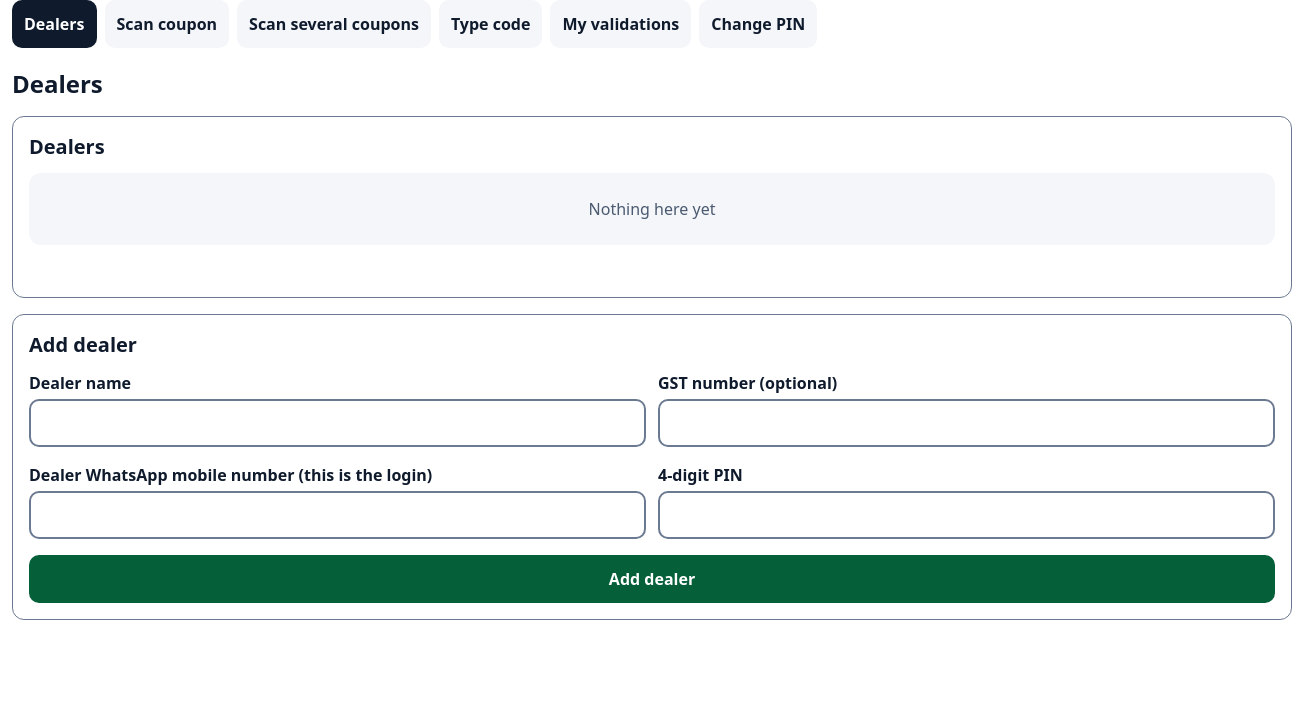
Test: distributor and sales rep: dealers › shows the reason when a dealer cannot be added
The image size is (1292, 720).
In the field labelled "Dealer name": (338, 423) [29,399,646,447], type "Om Paints"
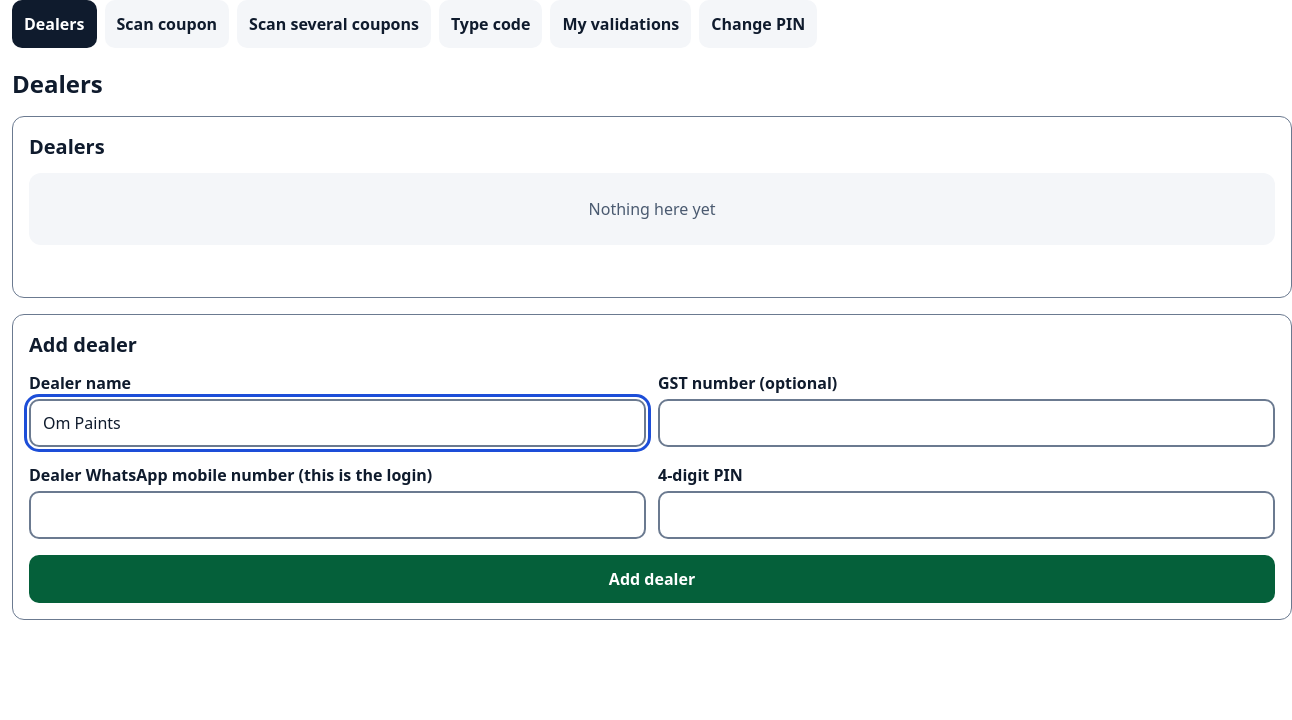
In the field labelled "Dealer WhatsApp mobile number (this is the login)": (338, 515) [29,491,646,539], type "9822200001"
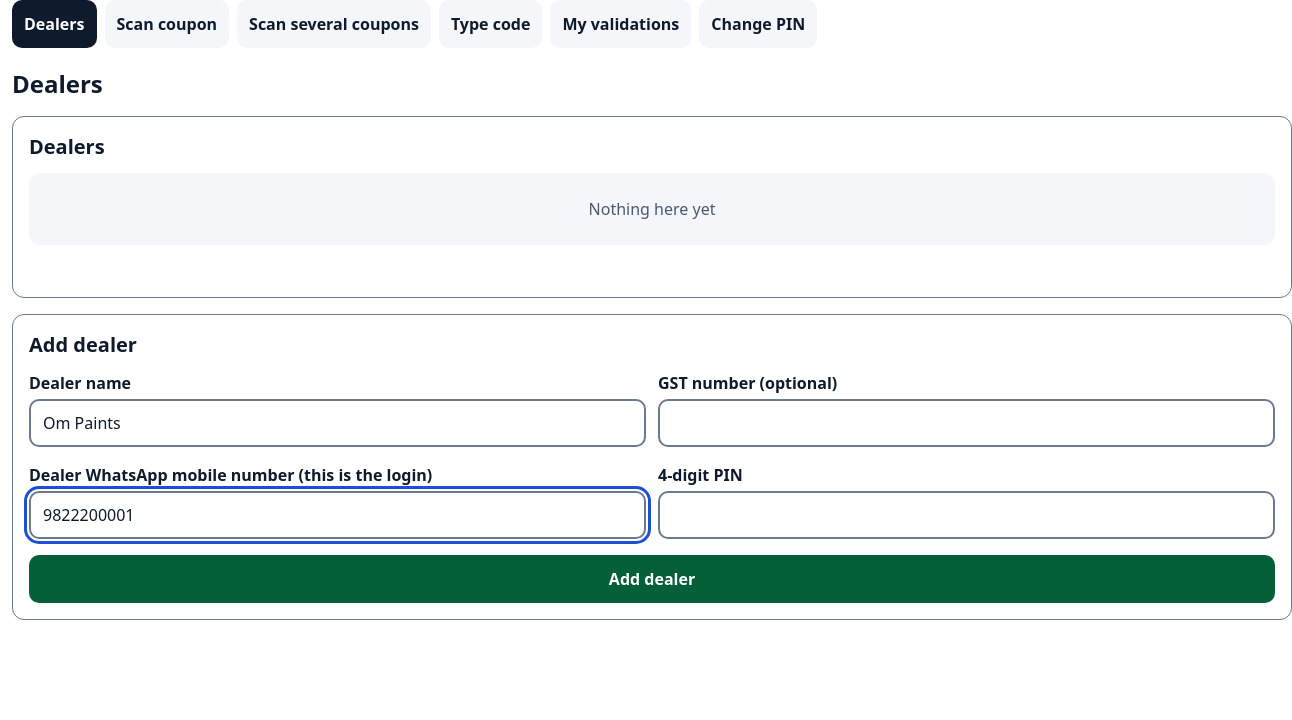
In the password field labelled "4-digit PIN": (966, 515) [658,491,1275,539], type "2468"
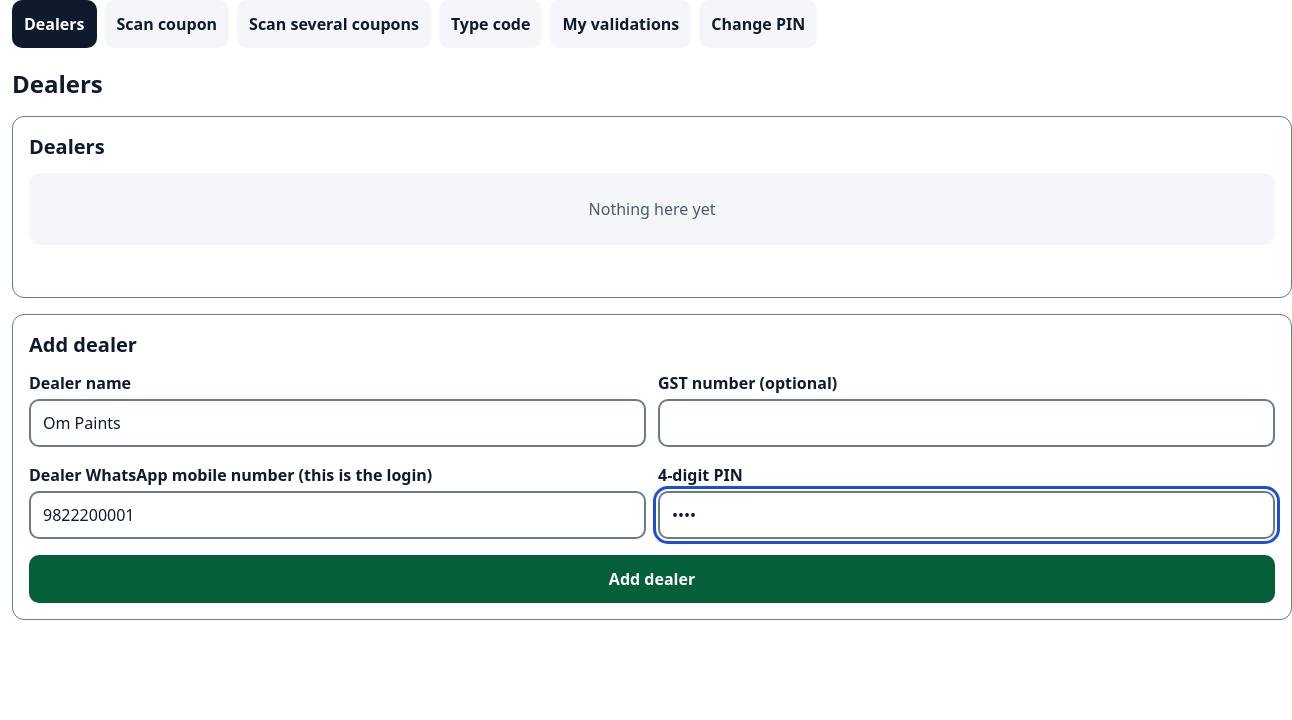
Click the button "Add dealer": (652, 579) [29,555,1275,603]
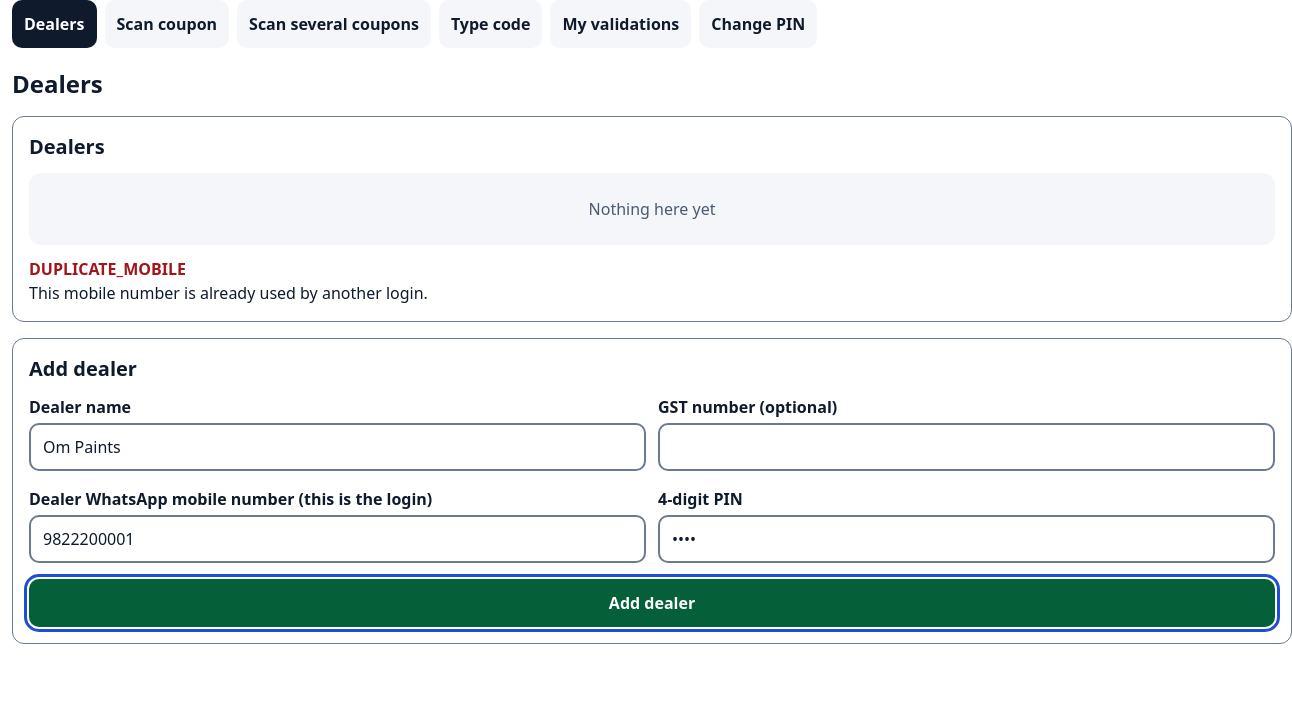
Expected: the text "DUPLICATE_MOBILE" is shown, [29,258,186,280]
